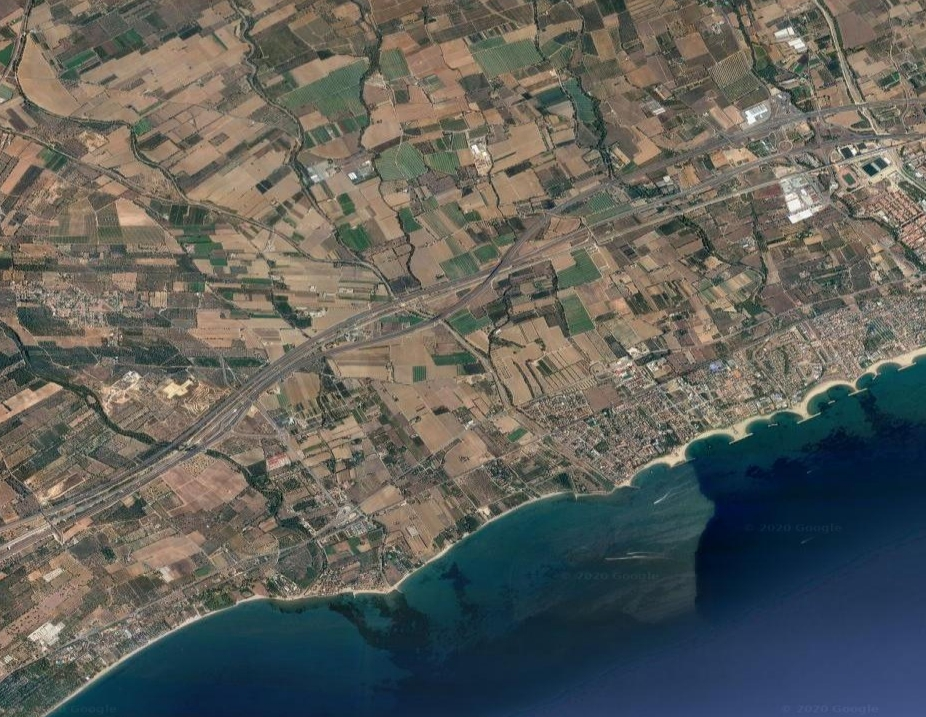motorway: (1, 379, 263, 563), (260, 255, 517, 380), (504, 131, 761, 256), (761, 75, 926, 194)
